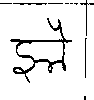ai_matra: (47, 18, 70, 40)
